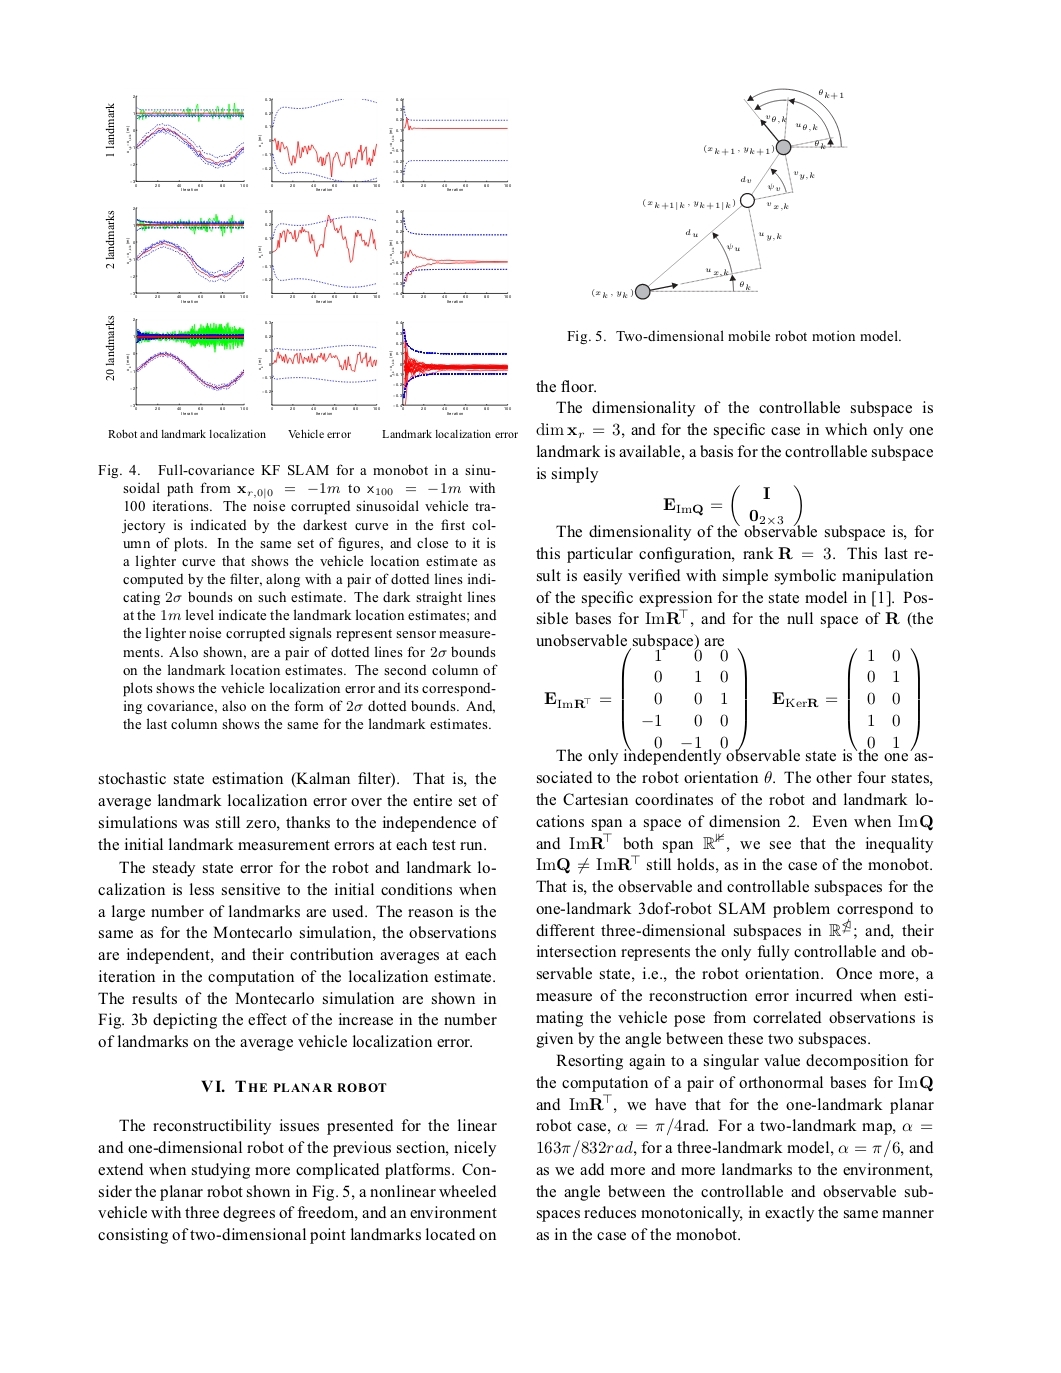figure: (592, 87, 847, 300), (105, 315, 247, 413), (105, 95, 247, 189), (105, 207, 247, 302), (389, 210, 510, 302), (389, 321, 510, 413), (257, 98, 379, 189), (389, 98, 510, 189), (260, 210, 379, 300), (257, 321, 379, 409)
formula: (544, 649, 919, 746), (663, 485, 801, 522)
